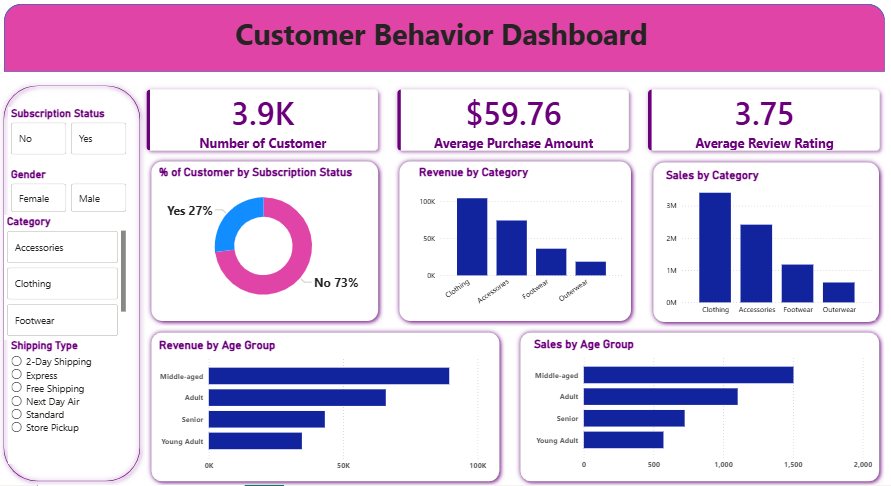

What the dashboard file says about the page in this screenshot:
{"tool":"powerbi","page":{"name":"Customer Behavior Dashboard","canvas":[1500,820],"ordinal":0},"visuals":[{"type":"shape","box":[246,554,598,266],"z":0},{"type":"shape","box":[10,15,1468.3,113.3],"z":1000},{"type":"cardVisual","fields":{"Data":["customer.Number of Customer","customer.Average of Purchase Amount","customer.Average of Review Rating"]},"box":[218,128,1282,160],"z":2000},{"type":"shape","box":[246,268,396,284],"z":4000},{"type":"donutChart","title":"% of Customer by Subscription Status","fields":{"Category":["customer.subscription status"],"Y":["CountNonNull(customer.customer id)"]},"box":[264,284,358,248],"z":5000},{"type":"shape","box":[660,268,404,284],"z":6000},{"type":"shape","box":[1084,270,394,284],"z":7000},{"type":"clusteredColumnChart","title":"Revenue  by Category","fields":{"Category":["customer.category"],"Y":["Sum(customer.purchase_amount)"]},"box":[696,284,350,254],"z":8000},{"type":"clusteredColumnChart","title":"Sales  by Category","fields":{"Category":["customer.category"],"Y":["Sum(customer.customer id)"]},"box":[1108,288,354,254],"z":9000},{"type":"shape","box":[0,142,246,678],"z":10000},{"type":"advancedSlicerVisual","fields":{"Values":["customer.subscription status"]},"box":[16,186,202,84],"z":11000},{"type":"advancedSlicerVisual","fields":{"Values":["customer.gender"]},"box":[16,288,202,78],"z":12000},{"type":"advancedSlicerVisual","fields":{"Values":["customer.category"]},"box":[10,366,208,208],"z":13000},{"type":"listSlicer","fields":{"Values":["customer.shipping type"]},"box":[16,574,202,208],"z":14000},{"type":"shape","box":[862,554,616,266],"z":15000},{"type":"clusteredBarChart","title":"Sales by Age Group","fields":{"Category":["customer.age_group"],"Y":["CountNonNull(customer.customer id)"]},"box":[888,570,574,230],"z":16000},{"type":"textbox","box":[0,26.7,1478.3,75],"z":16500},{"type":"clusteredBarChart","title":"Revenue by Age Group","fields":{"Y":["Sum(customer.purchase_amount)"],"Category":["customer.age_group"]},"box":[264,572,556,230],"z":17000}]}

Visuals, with their boxes in screenshot pixels (x1, y1, x2, y2), scaled from the page's 1500x820 canvas onto the 891x486 screenshot:
shape: 146,328,501,485
shape: 6,9,878,76
cardVisual - customer.Number of Customer x customer.Average of Purchase Amount: 129,76,890,171
shape: 146,159,381,327
"% of Customer by Subscription Status" donutChart: 157,168,369,315
shape: 392,159,632,327
shape: 644,160,878,328
"Revenue  by Category" clusteredColumnChart: 413,168,621,319
"Sales  by Category" clusteredColumnChart: 658,171,868,321
shape: 0,84,146,485
advancedSlicerVisual - customer.subscription status: 10,110,129,160
advancedSlicerVisual - customer.gender: 10,171,129,217
advancedSlicerVisual - customer.category: 6,217,129,340
listSlicer - customer.shipping type: 10,340,129,463
shape: 512,328,878,485
"Sales by Age Group" clusteredBarChart: 527,338,868,474
textbox: 0,16,878,60
"Revenue by Age Group" clusteredBarChart: 157,339,487,475
